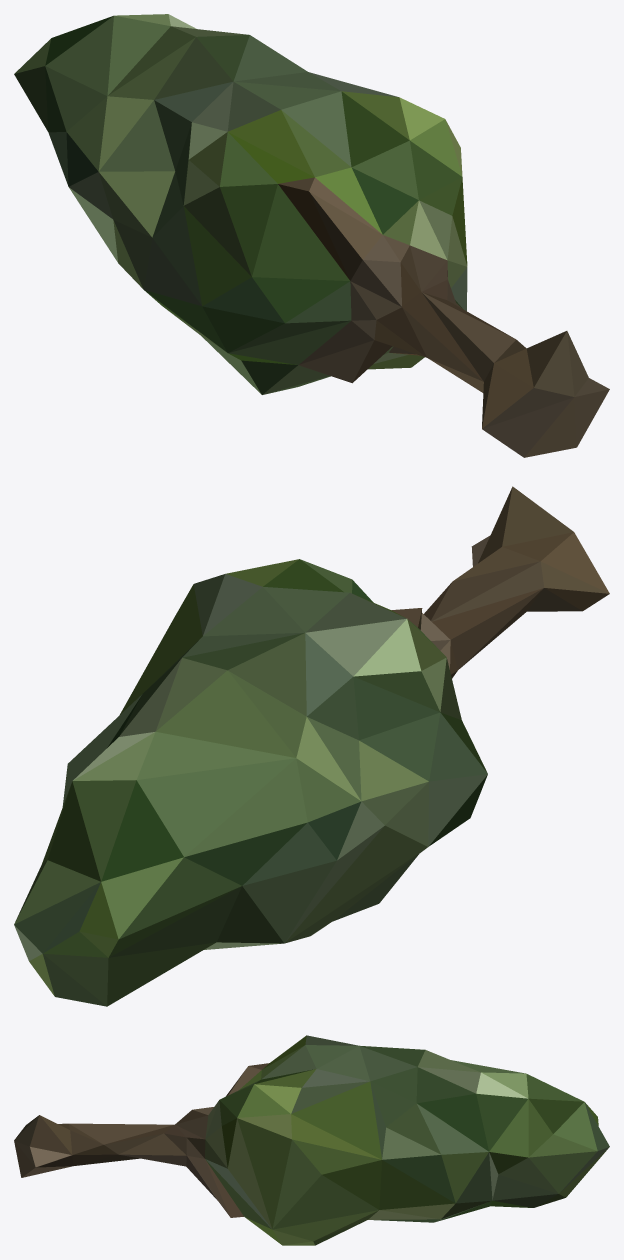
The model's file is Tree_E-DetailB.fbx.
The picture shows the model from 3 angles, top to bottom: view 1: azimuth 30°, elevation 25°; view 2: azimuth 150°, elevation 25°; view 3: azimuth 270°, elevation 25°; orthographic projection. The views are drawn at different scales.
Parts seen in each view (by area): view 1: Tree_E-DetailB; view 2: Tree_E-DetailB; view 3: Tree_E-DetailB.
Boxes of the visible parts, bbox=[...] form: Tree_E-DetailB: bbox=[14, 14, 609, 457]; Tree_E-DetailB: bbox=[14, 486, 609, 1006]; Tree_E-DetailB: bbox=[14, 1035, 609, 1245].
Size of the model in its own units: 489 by 480 by 1491.
